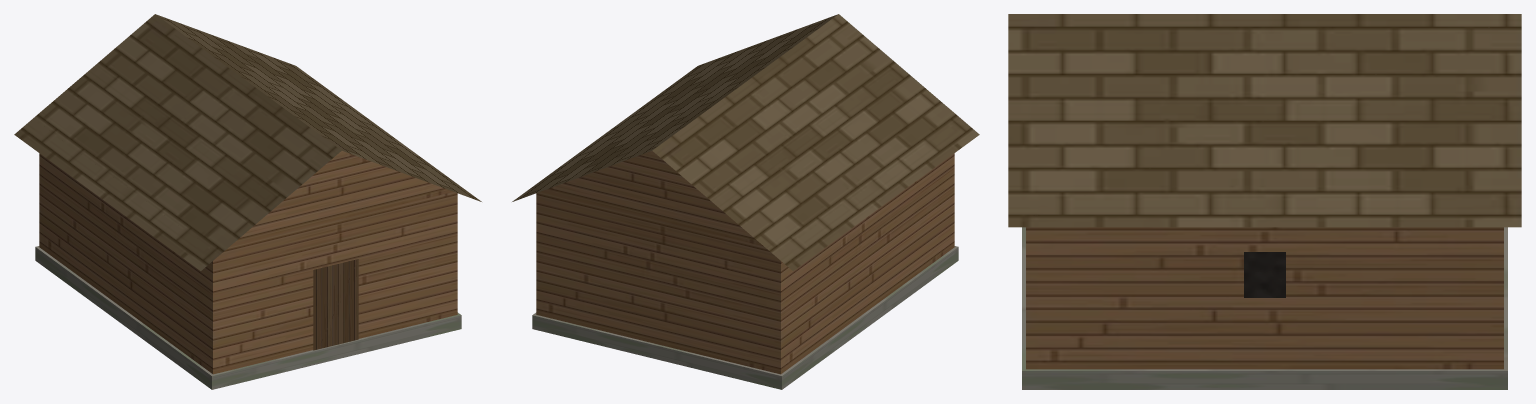
The model's file is ae_forest_wood_large_barn_lod2.glb.
3 views of the same model, side by side, from view 1: azimuth 30°, elevation 25°; view 2: azimuth 150°, elevation 25°; view 3: azimuth 270°, elevation 25° (orthographic). The views are drawn at different scales.
Visible parts, largest first — view 1: ae_forest_wood_large_barn_lod2; view 2: ae_forest_wood_large_barn_lod2; view 3: ae_forest_wood_large_barn_lod2.
Boxes of the visible parts, x1,y1,x2,y2 form: ae_forest_wood_large_barn_lod2: [14, 14, 481, 389]; ae_forest_wood_large_barn_lod2: [512, 14, 979, 389]; ae_forest_wood_large_barn_lod2: [1008, 14, 1521, 389].
Size of the model in its own units: 7.5 by 5.4 by 8.6.
1 material, 1 textured.
